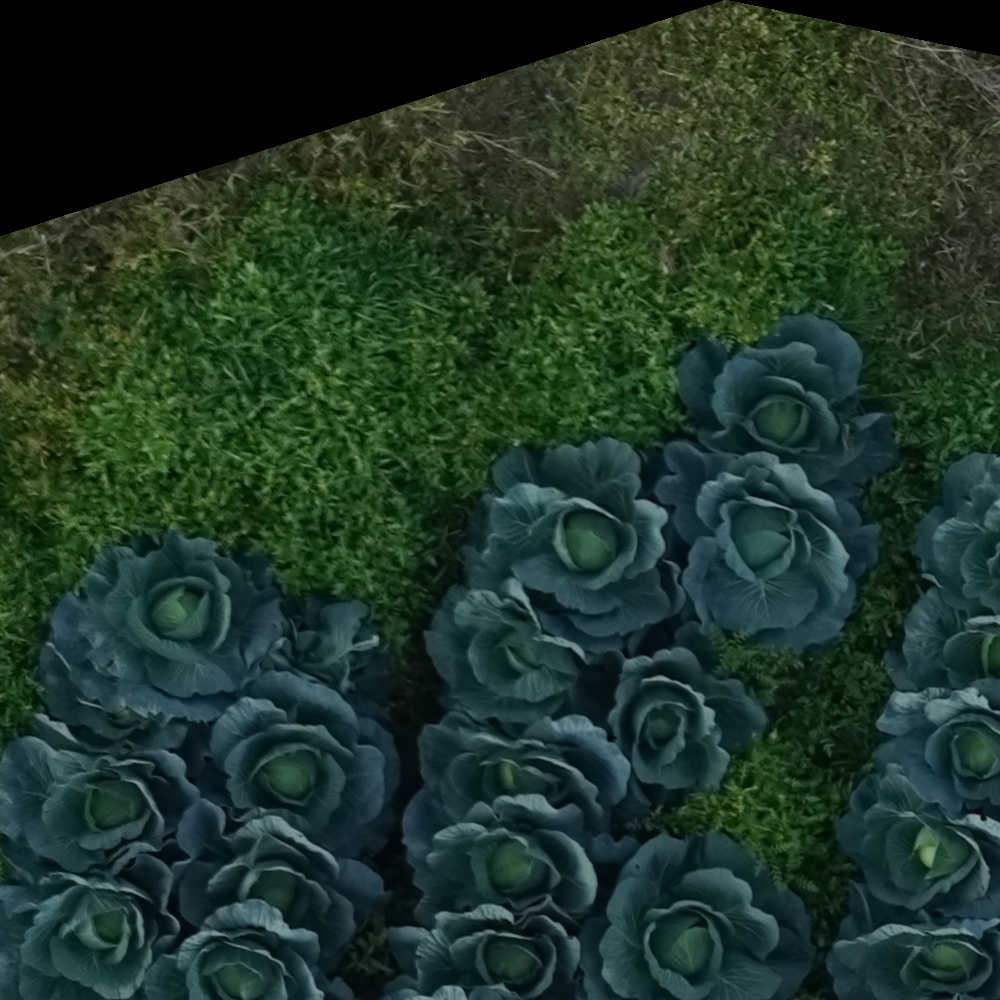Cabbage: (659, 440, 881, 650), (469, 438, 684, 653), (677, 314, 895, 502), (582, 827, 814, 998), (193, 668, 403, 854), (50, 533, 282, 701), (404, 714, 653, 855), (171, 797, 388, 950), (404, 794, 642, 932), (576, 625, 769, 790), (423, 553, 590, 727), (0, 737, 196, 878), (0, 853, 181, 1000), (837, 764, 999, 920), (34, 638, 223, 753), (140, 898, 354, 998), (825, 883, 1000, 1000), (387, 900, 586, 1000), (878, 688, 1000, 812), (910, 454, 1000, 617), (884, 589, 1000, 708)
